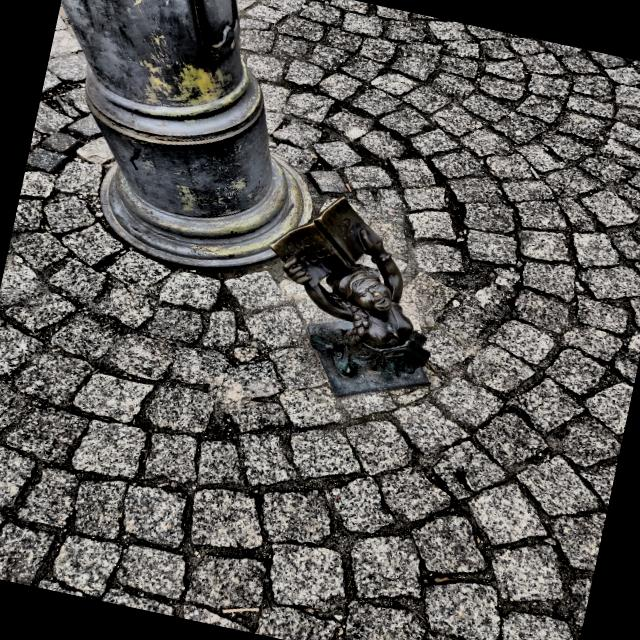Demokracja: (271, 197, 429, 396)
